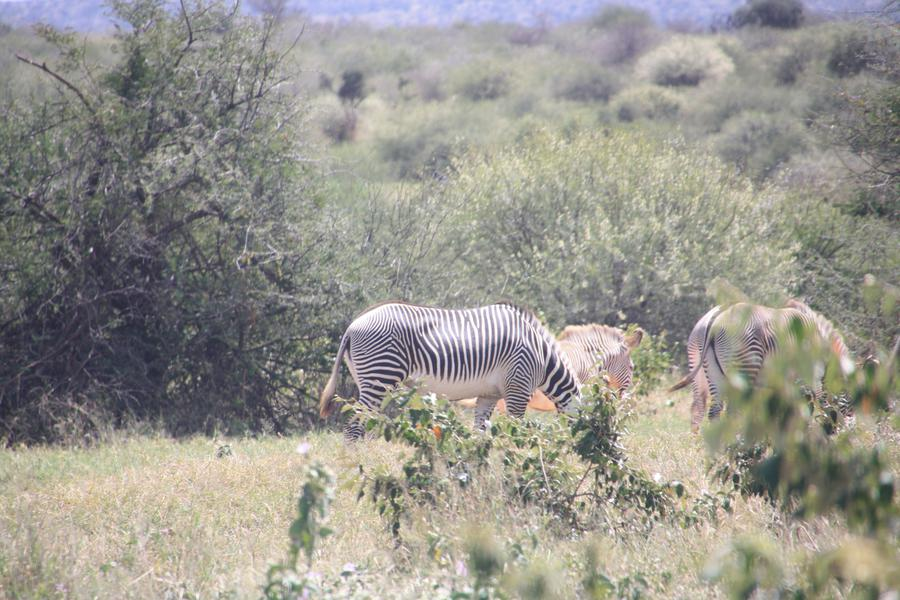zebra_grevys: (339, 291, 531, 393)
